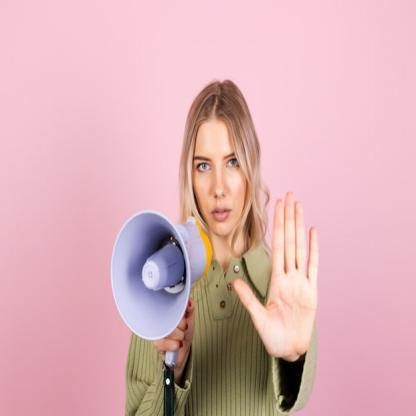stop: (230, 188, 322, 362)
